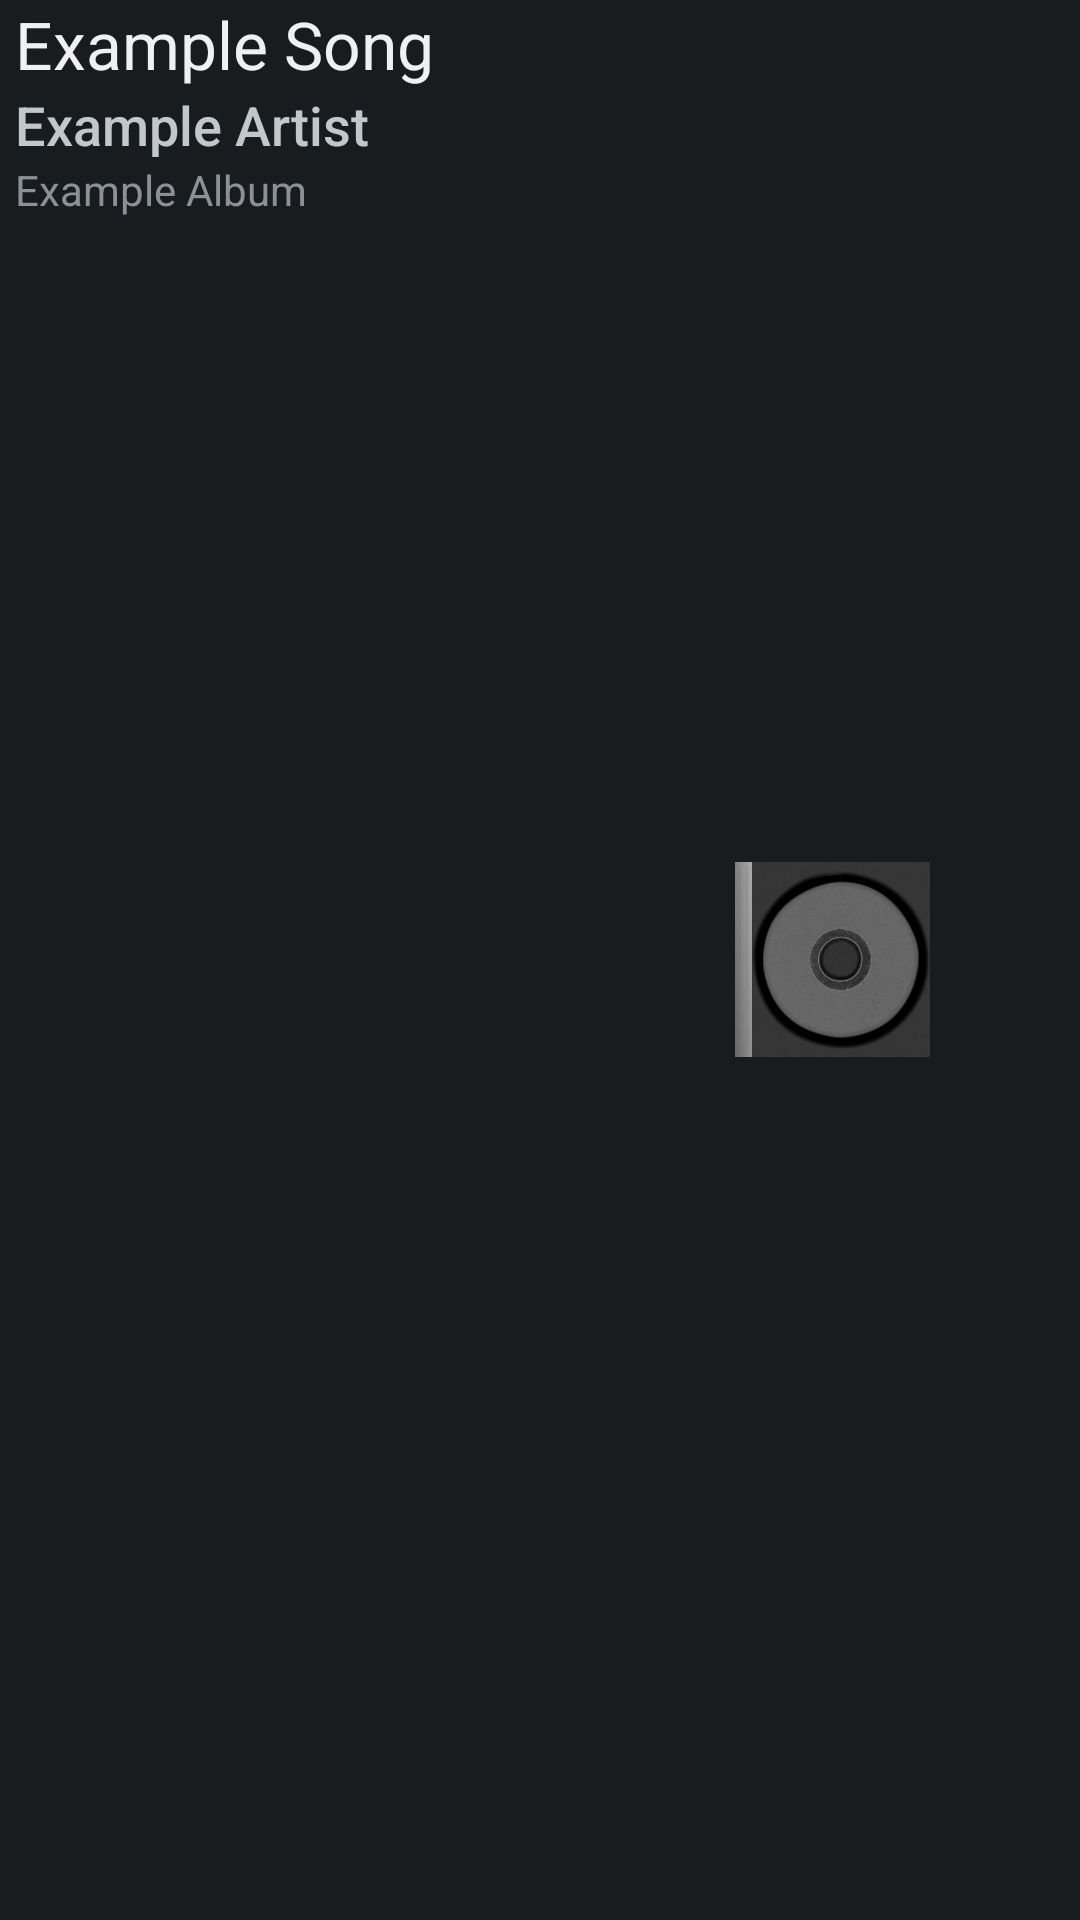

Icons on this 1080px×1920px Android screen, each with its box as detection(x1, y1, x2, y2):
Example Album: detection(735, 862, 930, 1057)
